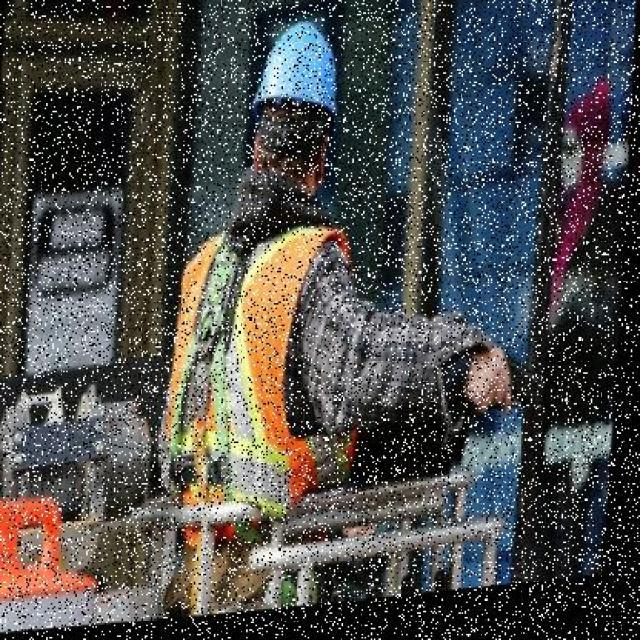helmet: (242, 19, 351, 133)
vest: (165, 222, 363, 526)
